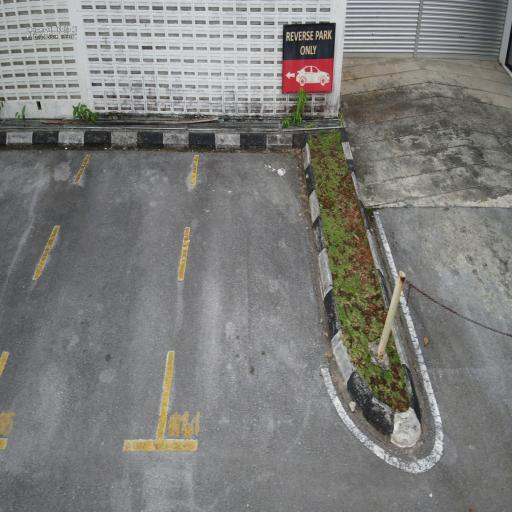Empty: (148, 127, 364, 467)
